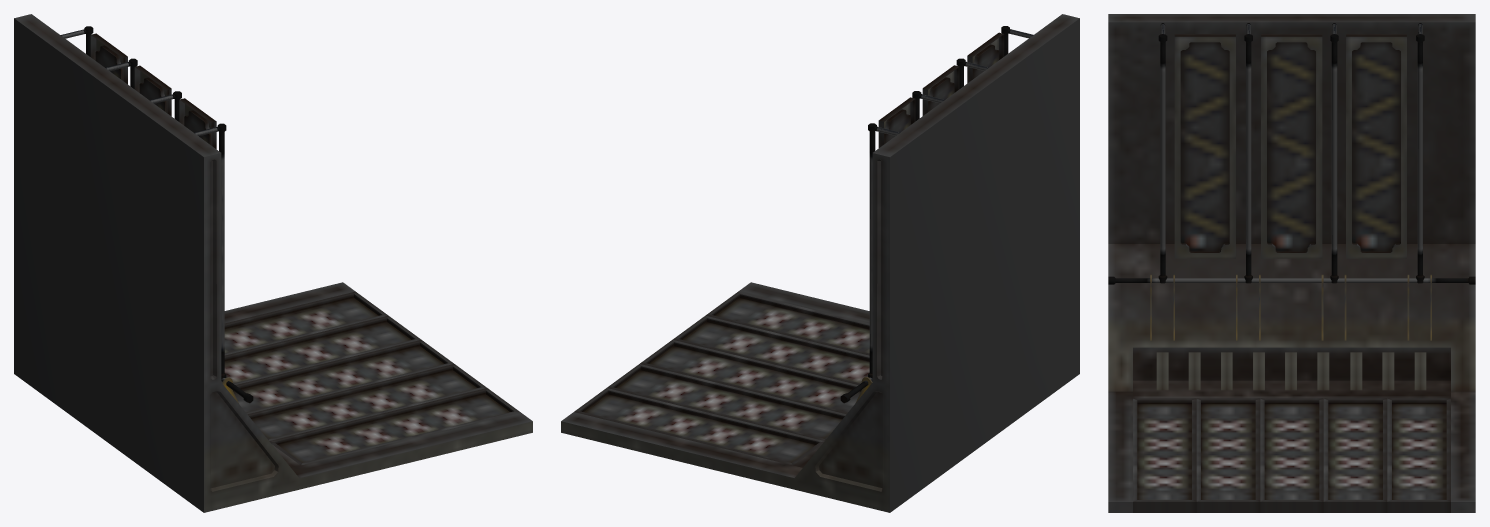
Rendered from Wall-Floor_16.FBX.
3 renders of one model, left to right at view 1: azimuth 30°, elevation 25°; view 2: azimuth 150°, elevation 25°; view 3: azimuth 270°, elevation 25°, orthographic. The views are drawn at different scales.
Visible parts, largest first — view 1: Wall-Floor_16; view 2: Wall-Floor_16; view 3: Wall-Floor_16.
Part boxes in pixels (x1,y1,x2,y2): Wall-Floor_16: [14, 14, 532, 512]; Wall-Floor_16: [561, 14, 1079, 512]; Wall-Floor_16: [1108, 14, 1475, 512].
Size of the model in its own units: 300 by 310 by 300.
